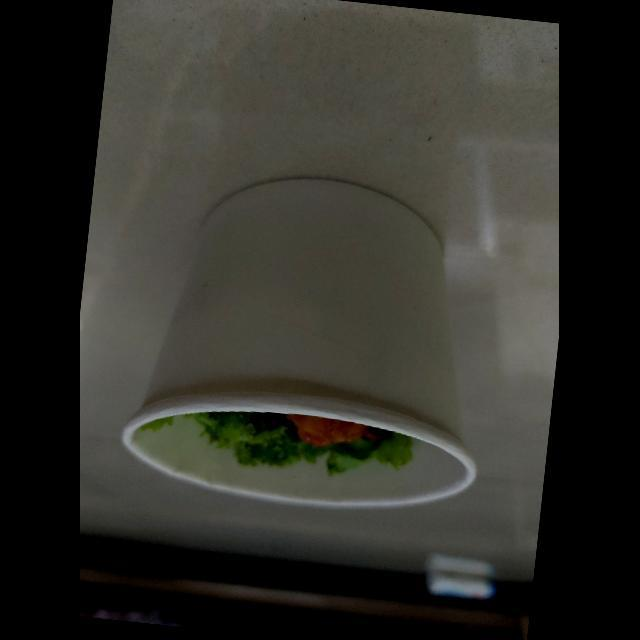rice-bowl: (102, 140, 518, 548)
